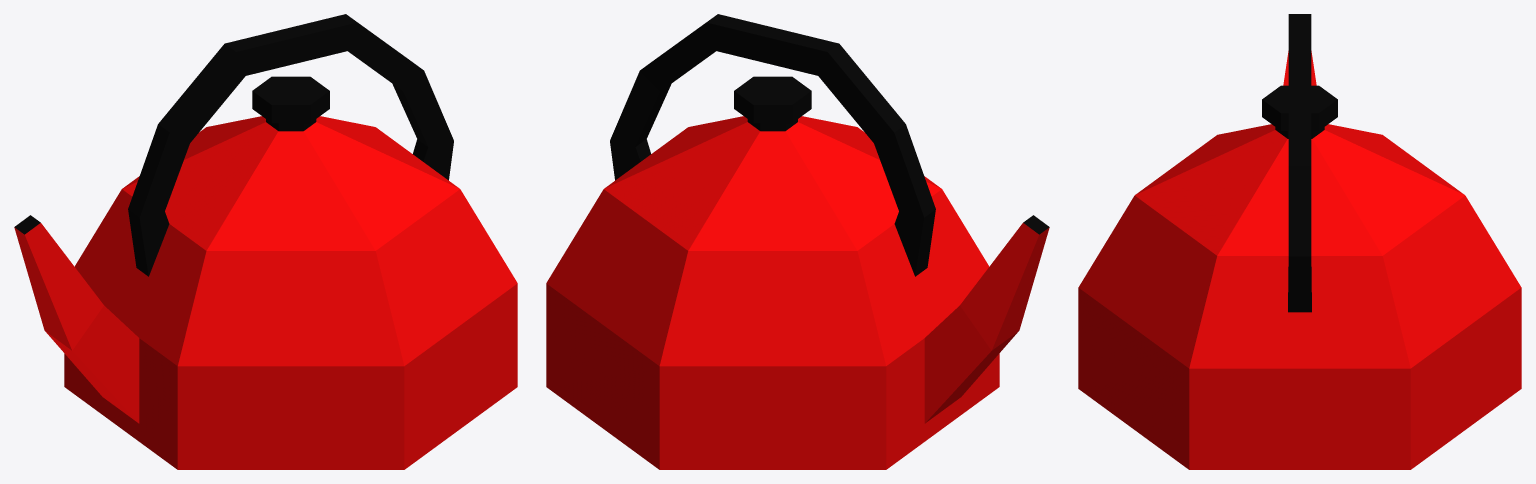
Rendered from kettle1_PLY.fbx.
3 views of the same model, side by side, from view 1: azimuth 30°, elevation 25°; view 2: azimuth 150°, elevation 25°; view 3: azimuth 270°, elevation 25° (orthographic). The views are drawn at different scales.
Visible parts, largest first — view 1: kettle1_PLY; view 2: kettle1_PLY; view 3: kettle1_PLY.
Part boxes in pixels (bbox=[...]): kettle1_PLY: bbox=[14, 14, 517, 469]; kettle1_PLY: bbox=[546, 14, 1049, 469]; kettle1_PLY: bbox=[1078, 14, 1521, 469].
Bounding box in the file's own units: 0.9745 × 0.7462 × 0.8663.
